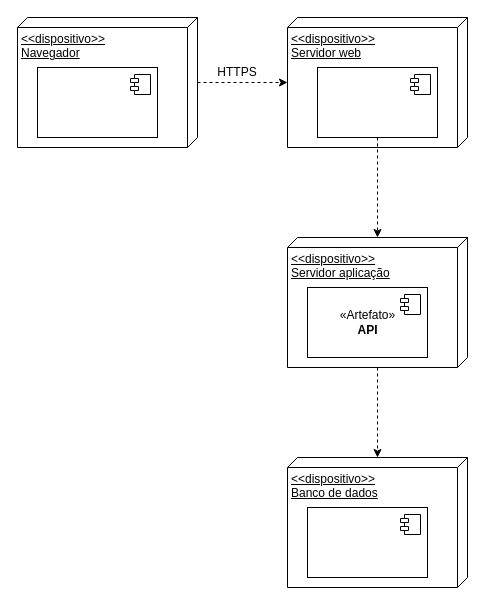
Image size: 485x605. Some labels were removed from this diagram. Each missing label, with the centre of its shape:
«artefato» HTML: the point at 97,102
«artefato» Index: the point at 377,102
«artefato» MySQL: the point at 367,542
